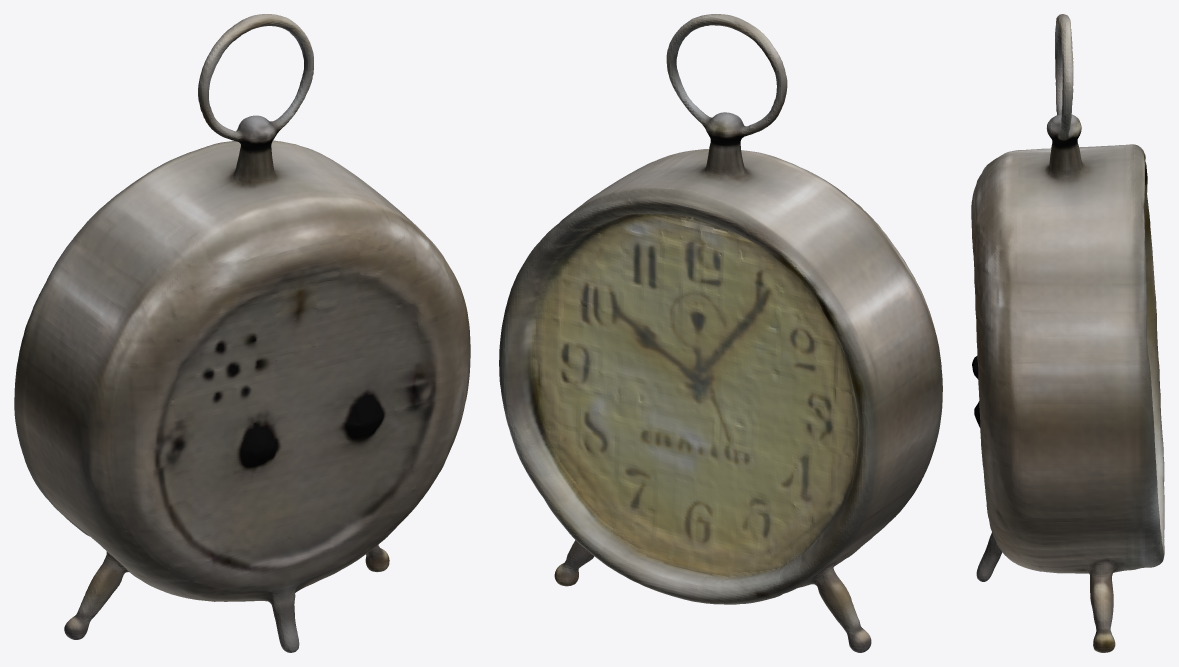
3 renders of one model, left to right at view 1: azimuth 30°, elevation 25°; view 2: azimuth 150°, elevation 25°; view 3: azimuth 270°, elevation 25°, orthographic. The views are drawn at different scales.
Visible parts, largest first — view 1: world; view 2: world; view 3: world.
Boxes of the visible parts, <box> form: world: <box>14,14,470,652</box>; world: <box>499,14,942,652</box>; world: <box>971,14,1164,652</box>.
Bounding box in the file's own units: 1.21 × 1.8 × 0.557.
